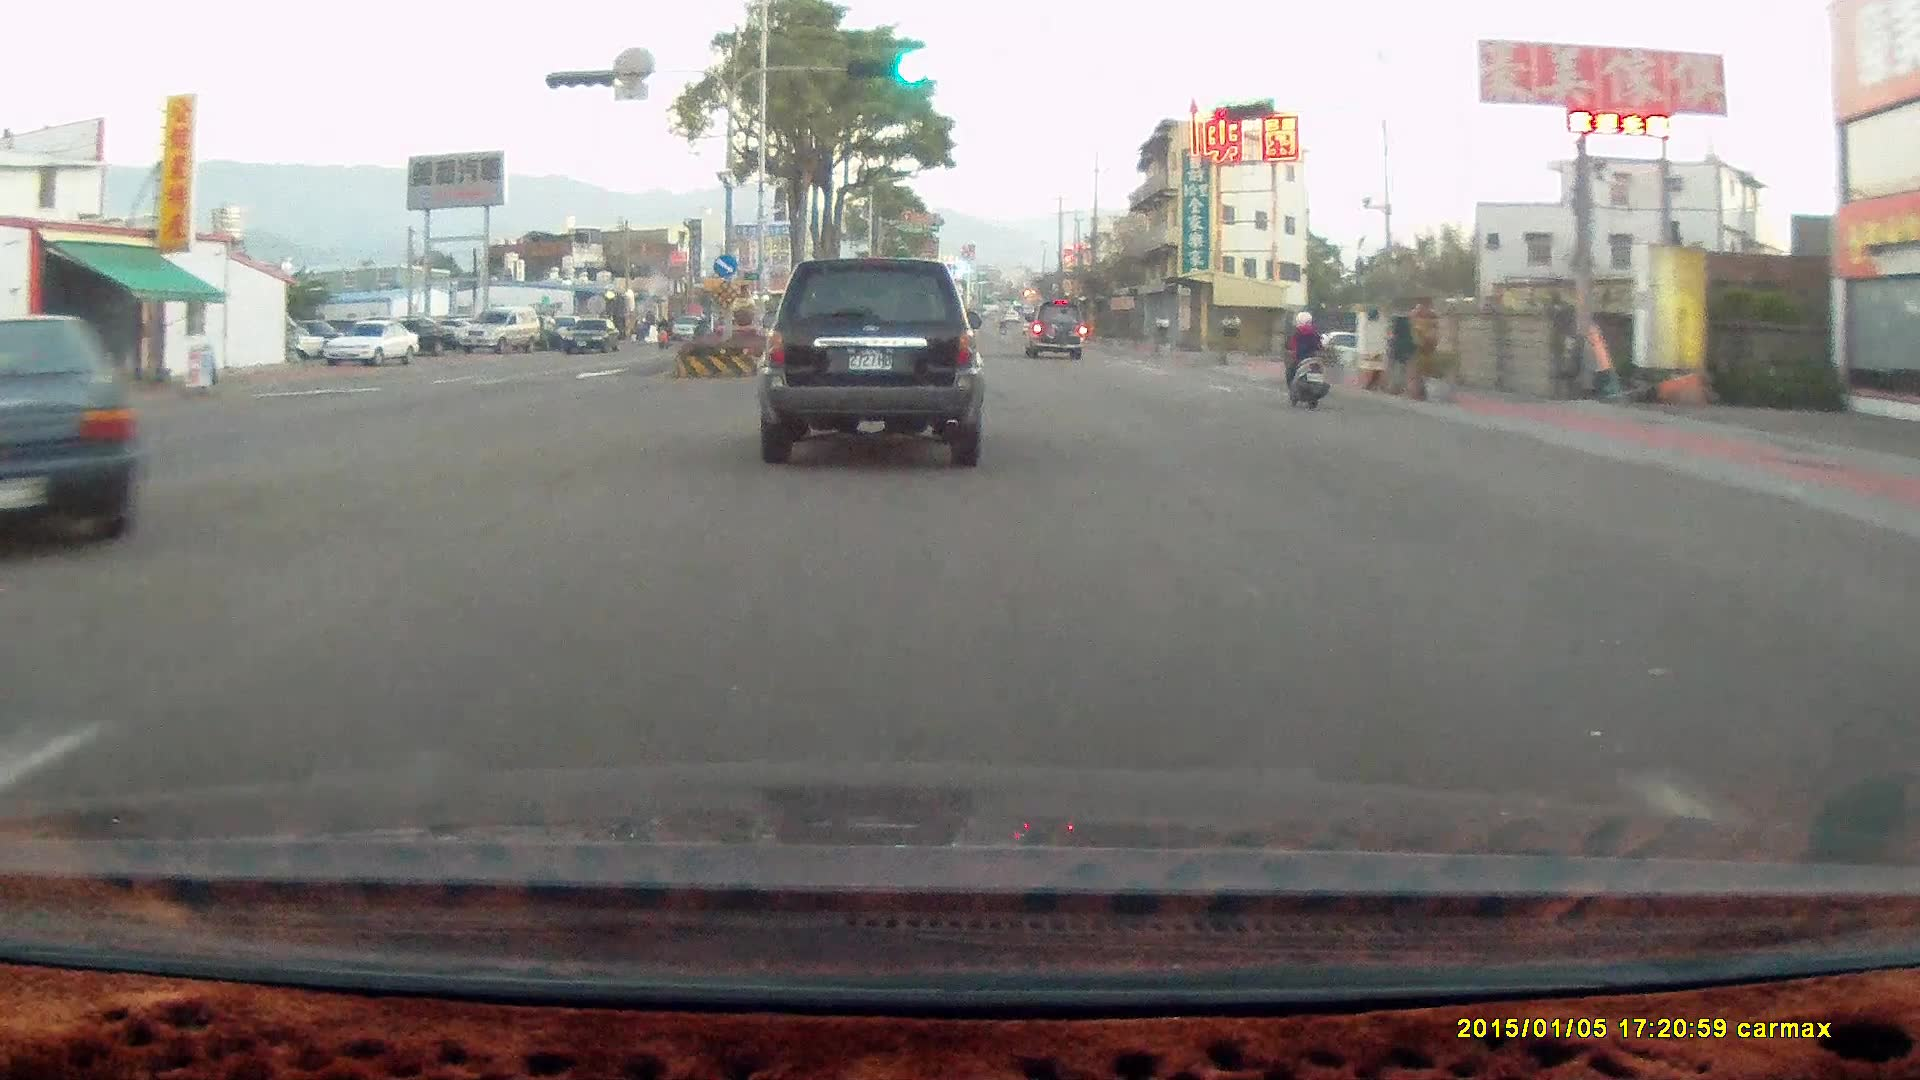rider: (1271, 299, 1340, 417), (1277, 306, 1329, 410)
vehicle: (765, 253, 995, 466), (759, 253, 984, 463), (1, 310, 155, 546), (322, 318, 418, 366), (328, 321, 423, 369), (457, 304, 543, 355), (457, 305, 542, 355), (1022, 299, 1085, 358), (1027, 300, 1087, 361), (372, 315, 455, 354), (561, 318, 621, 355)
